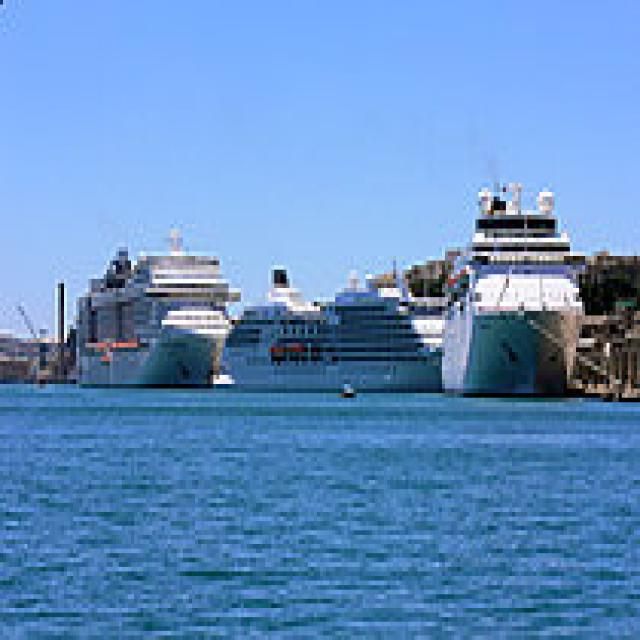Ship: (437, 175, 602, 413), (68, 221, 251, 395)
